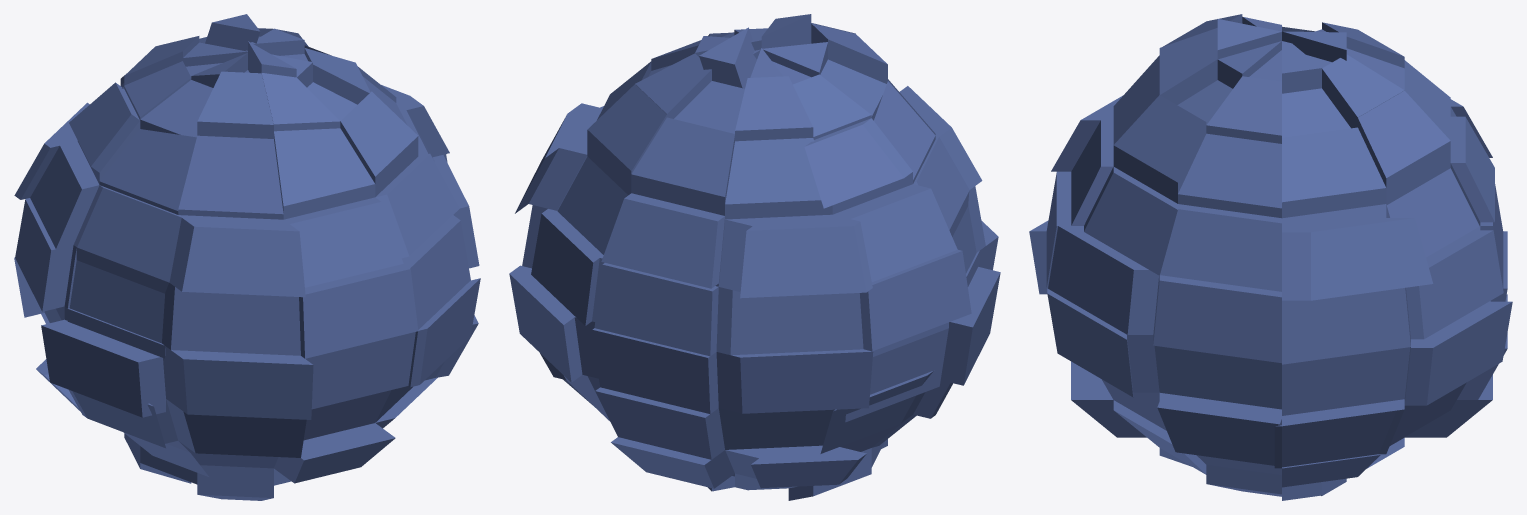
The model's file is TechnoBomb.fbx.
3 renders of one model, left to right at view 1: azimuth 30°, elevation 25°; view 2: azimuth 150°, elevation 25°; view 3: azimuth 270°, elevation 25°, orthographic. The views are drawn at different scales.
Parts seen in each view (by area): view 1: pSphere1; view 2: pSphere1; view 3: pSphere1.
Part boxes in pixels (x1=…): pSphere1: x1=14, y1=14, x2=480, y2=500; pSphere1: x1=509, y1=14, x2=1000, y2=500; pSphere1: x1=1029, y1=14, x2=1512, y2=500.
Bounding box in the file's own units: 2.26 × 2.3 × 2.21.
